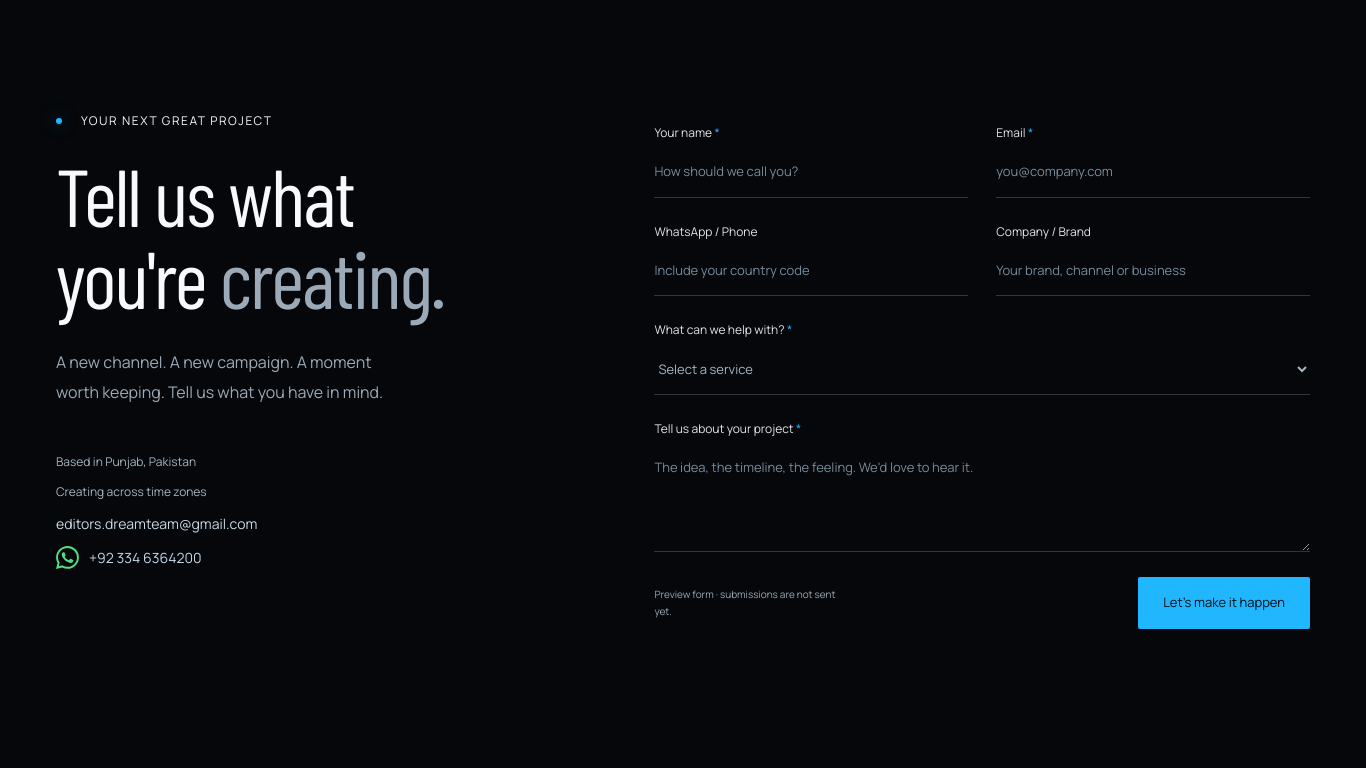
Test: Project enquiry delivery › does not transmit a demo enquiry or falsely report success
Type "Test Creator" into the field with placeholder "How should we call you?" at (811, 172), box [654,147,968,198]
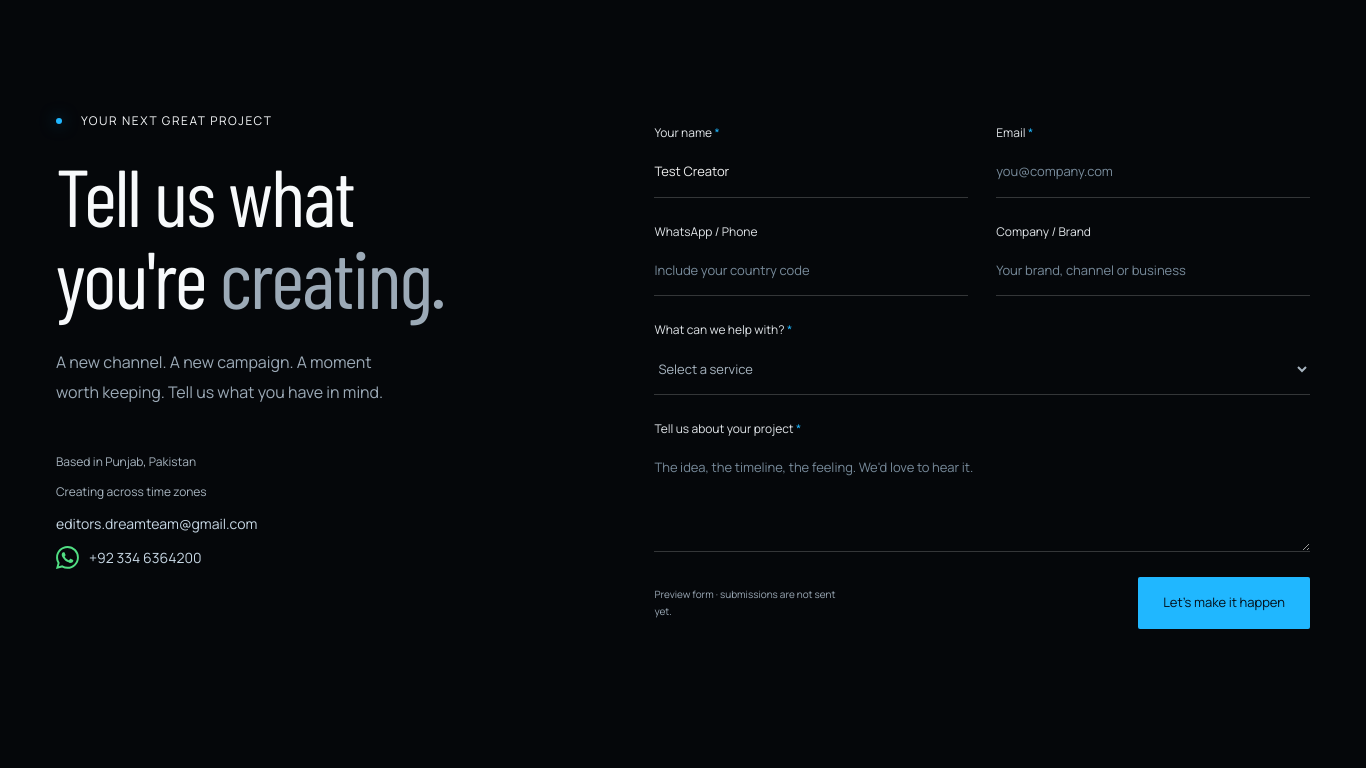
Type "test@example.com" into the field with placeholder "you@company.com" at (1153, 172), box [996,147,1310,198]
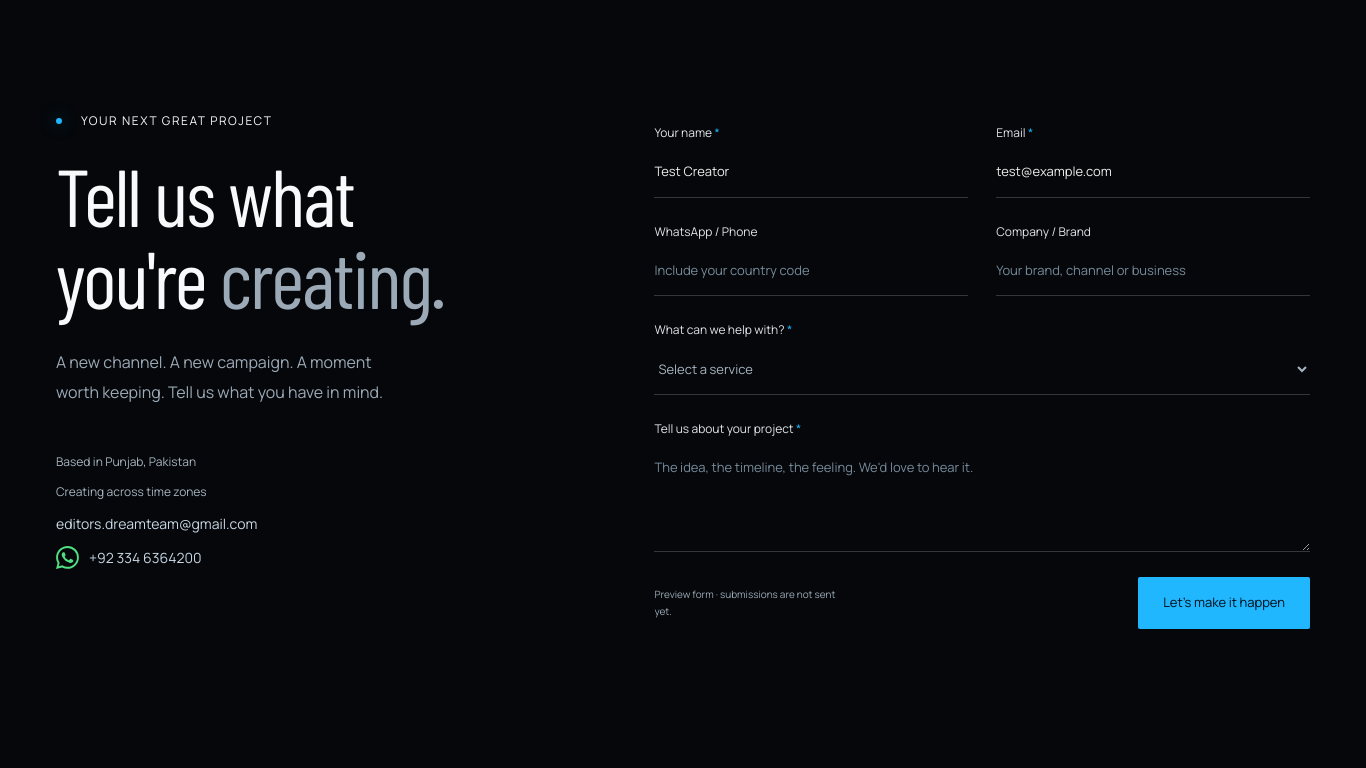
Select "Color Grading" in the dropdown at (982, 370), box [654,344,1310,395]
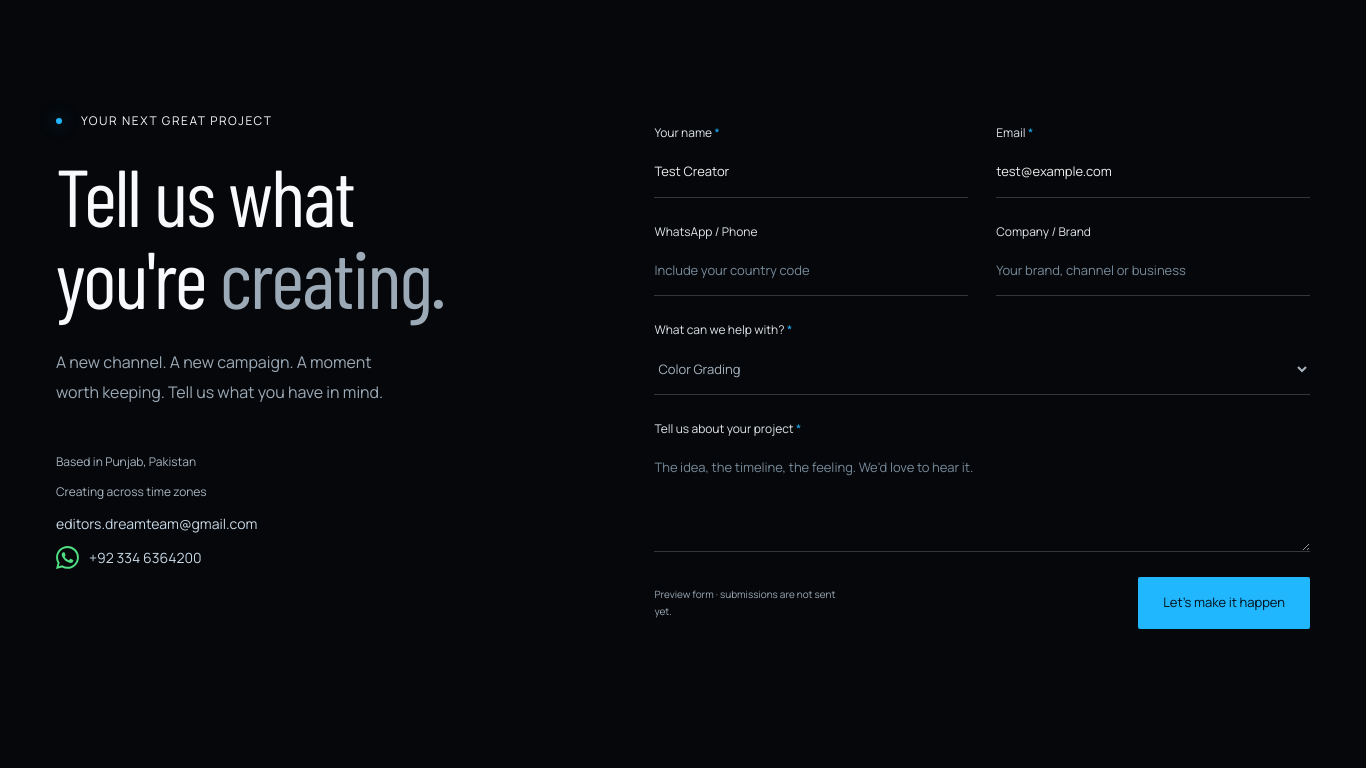
Type "A cinematic color grade for a short brand film." into the text box labelled "Tell us about your project *" at (982, 498), box [654,443,1310,552]
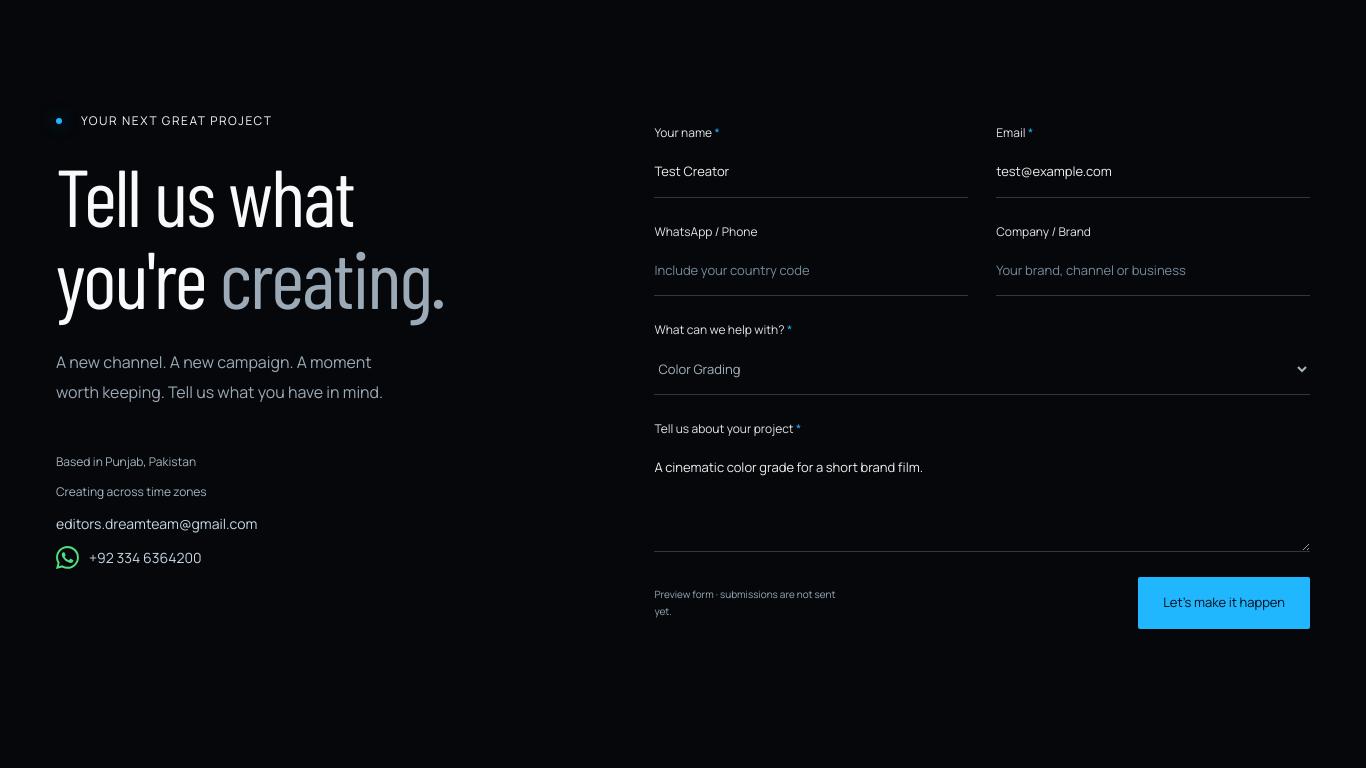
Click the button "Let’s make it happen" at (1224, 603), box [1138,577,1310,628]
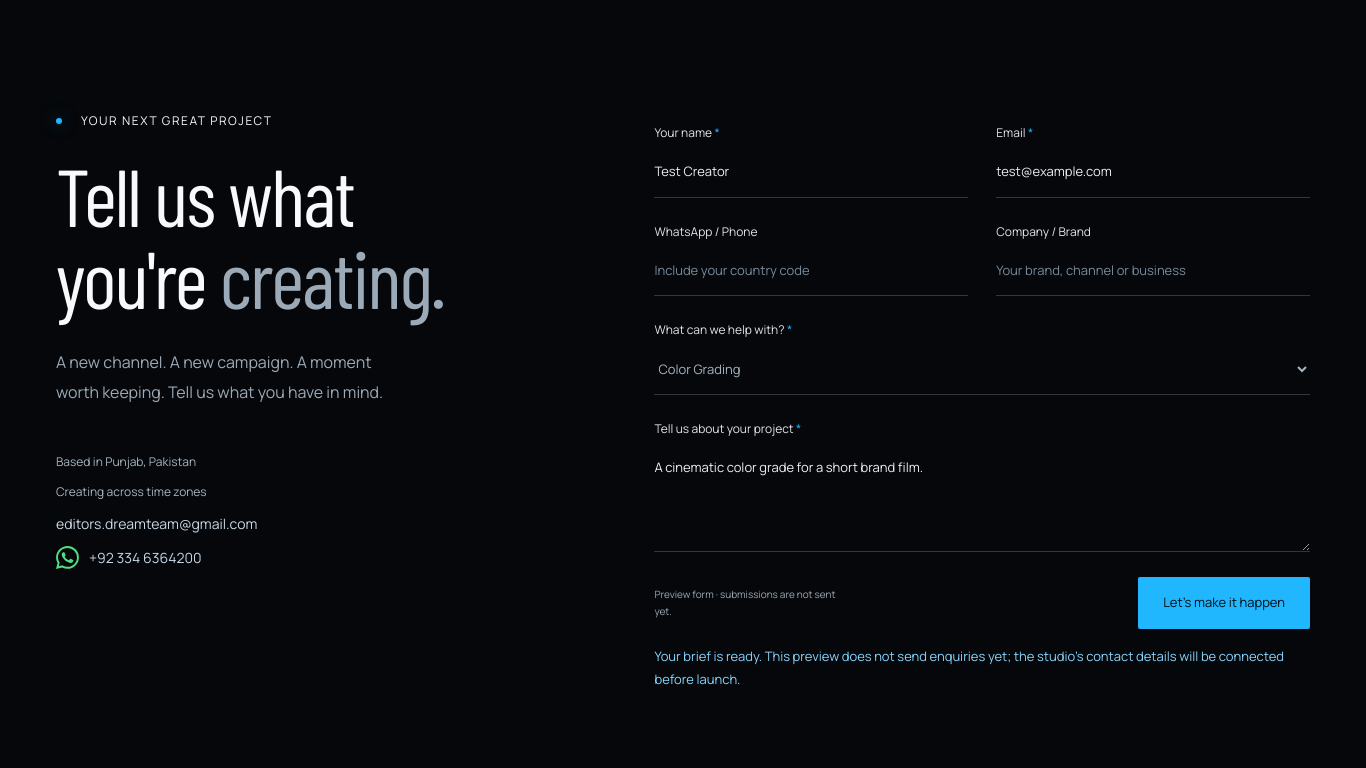
Result: the message shows "does not send enquiries" at [654,646,1284,688]
